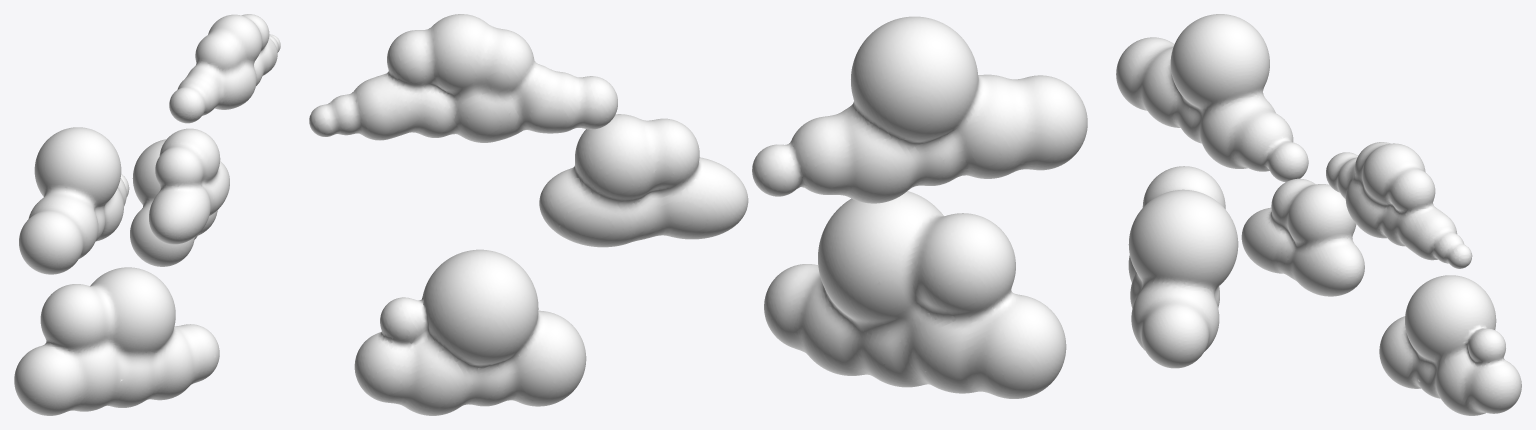
File: clouds.obj
3 renders of one model, left to right at view 1: azimuth 30°, elevation 25°; view 2: azimuth 150°, elevation 25°; view 3: azimuth 270°, elevation 25°, orthographic. The views are drawn at different scales.
Parts seen in each view (by area): view 1: Mball; view 2: Mball; view 3: Mball.
Part boxes in pixels (bbox=[...]): Mball: bbox=[14, 14, 280, 415]; Mball: bbox=[309, 14, 1087, 415]; Mball: bbox=[1116, 14, 1521, 415].
Size of the model in its own units: 13.47 by 8.86 by 10.59.
Materials: 1 (1 with a texture image).
